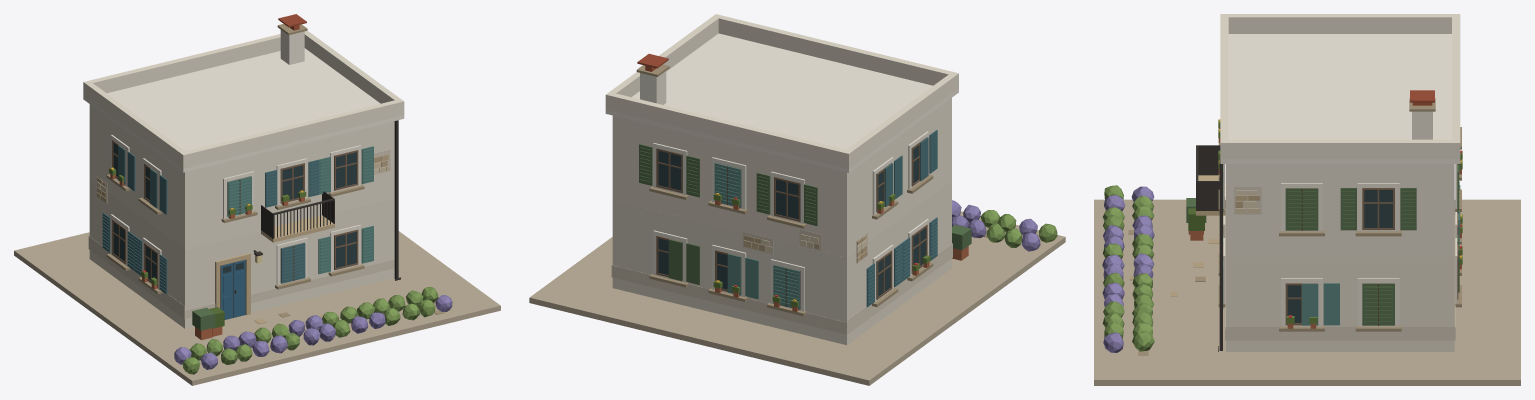
File: yazlik-iki-katli.glb
3 views of the same model, side by side, from view 1: azimuth 30°, elevation 25°; view 2: azimuth 150°, elevation 25°; view 3: azimuth 270°, elevation 25° (orthographic). The views are drawn at different scales.
Parts seen in each view (by area): view 1: badana2, zemin, dam, badana3, kepenk, yaprak3, badana, lavanta, cam, badana_kir, kepenk2, demir (+6 smaller); view 2: badana2, zemin, dam, badana3, badana, badana_kir, cam, yesil_kepenk, kepenk2, kepenk, ahsap, tas_koyu (+4 smaller); view 3: zemin, badana2, dam, badana3, yesil_kepenk, badana, yaprak3, badana_kir, lavanta, demir, tas_koyu, kepenk2 (+3 smaller).
Boxes of the visible parts, x1,y1,x2,y2 form: badana2: (83,30,404,249); zemin: (14,231,500,385); dam: (83,48,404,172); badana3: (89,180,394,328); kepenk: (102,145,319,294); yaprak3: (182,287,438,374); badana: (110,30,361,290); lavanta: (174,295,452,369); cam: (113,143,356,280); badana_kir: (88,149,394,319); kepenk2: (227,146,373,274); demir: (234,120,400,293); badana2: (605,14,958,257); zemin: (529,211,1065,385); dam: (605,33,958,172); badana3: (612,181,951,345); badana: (640,71,928,311); badana_kir: (611,229,952,334); cam: (658,139,925,308); yesil_kepenk: (639,144,817,284); kepenk2: (714,163,799,309); kepenk: (866,130,937,307); ahsap: (656,137,927,308); tas_koyu: (636,64,987,316); zemin: (1094,199,1520,385); badana2: (1220,14,1460,256); dam: (1220,34,1460,163); badana3: (1226,256,1454,351); yesil_kepenk: (1285,164,1459,325); badana: (1223,111,1457,326); yaprak3: (1102,185,1154,351); badana_kir: (1225,187,1455,340); lavanta: (1102,186,1154,352); demir: (1196,145,1222,351); tas_koyu: (1128,98,1461,355); kepenk2: (1223,164,1460,325).
Size of the model in its own units: 13 by 8.36 by 13.
